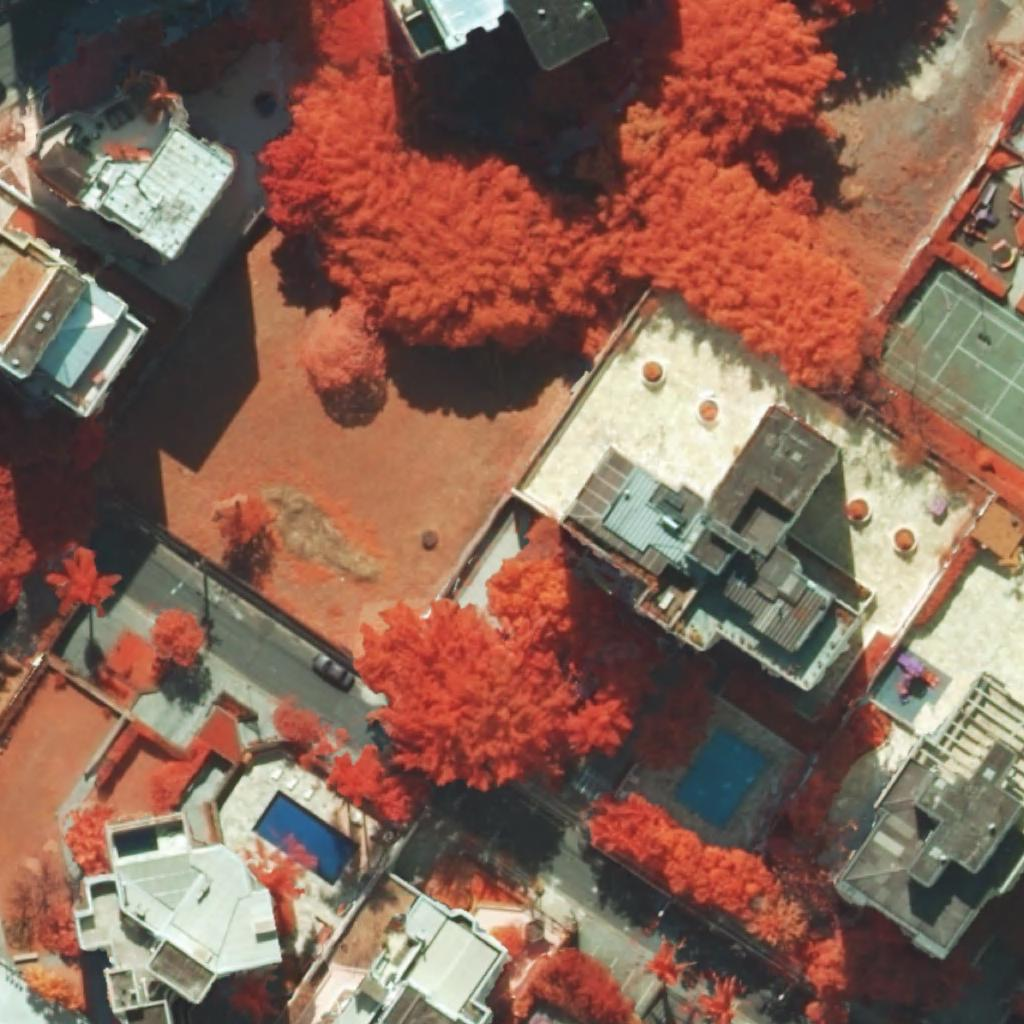pool: (251, 790, 362, 887), (673, 728, 768, 830)
